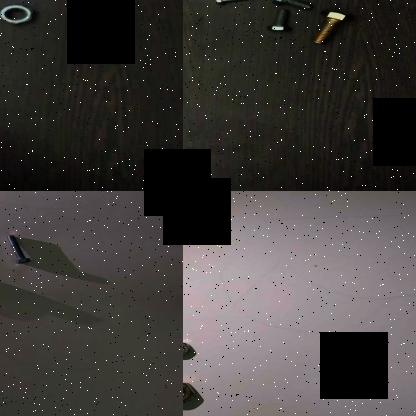Bolts: (312, 7, 362, 42), (0, 230, 37, 266), (264, 8, 292, 33), (271, 0, 317, 9), (209, 0, 263, 6)
NUTS: (0, 0, 38, 24), (183, 378, 198, 402), (183, 338, 193, 357)
